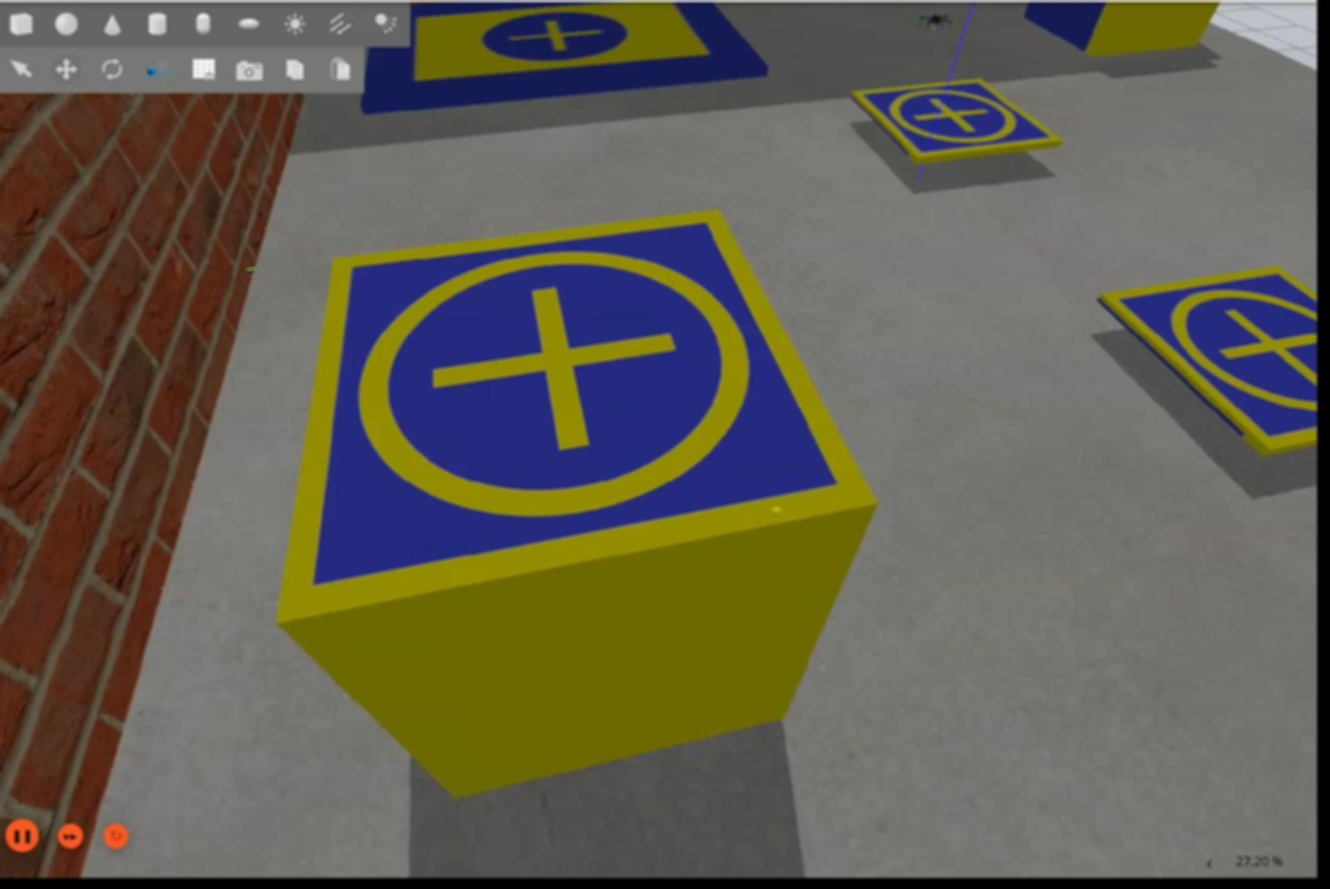large_base: (361, 1, 775, 112)
small_base: (271, 206, 879, 627), (1097, 266, 1325, 458), (854, 77, 1064, 160)
